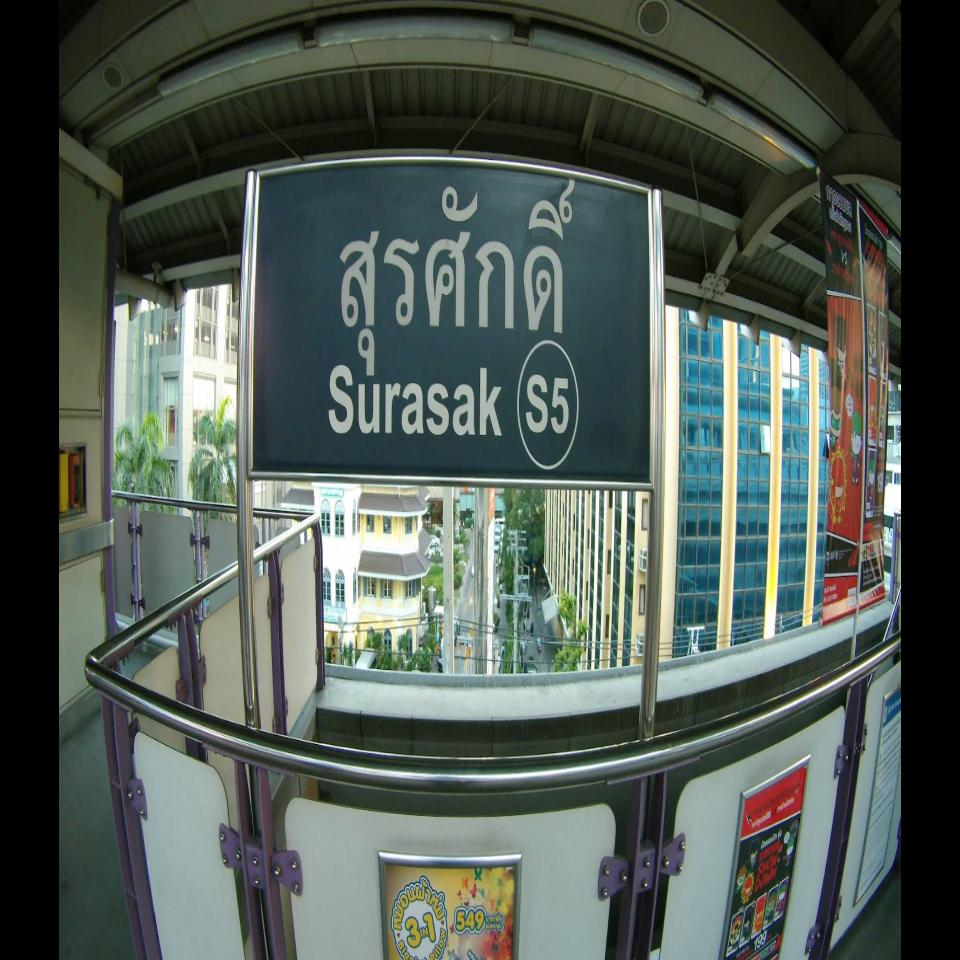signage: (248, 155, 656, 492)
